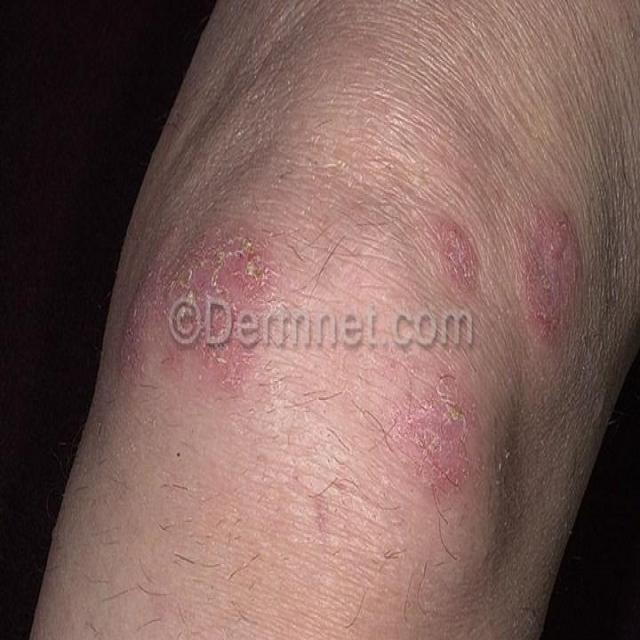Eczema: (97, 200, 586, 507)
